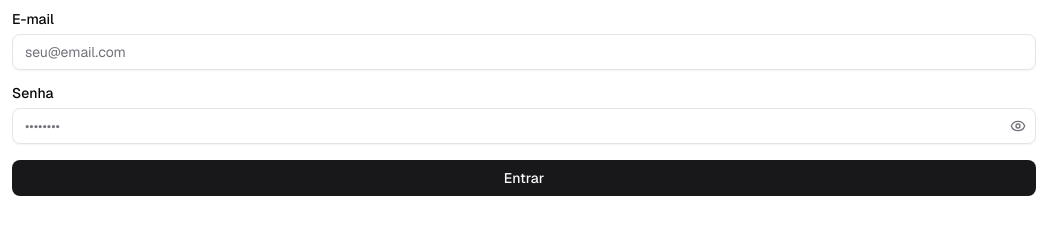
Test: LoginForm › Validação de Formulário › should show error for password less than 8 characters
Type "test@example.com" into the field labelled "E-mail".
click(524, 52); type("test@example.com")  # box [12,34,1036,70]
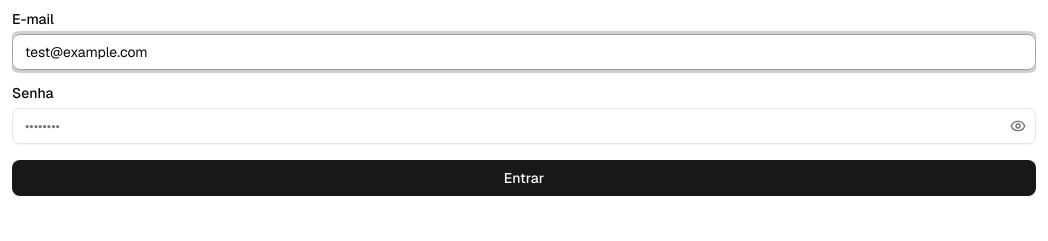
Type "1234567" into the password field labelled "Senha".
click(524, 126); type("1234567")  # box [12,108,1036,144]
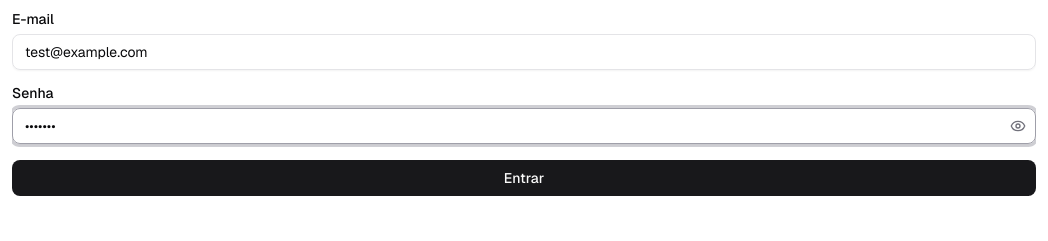
Click the button "Entrar".
click(524, 178)  # box [12,160,1036,196]
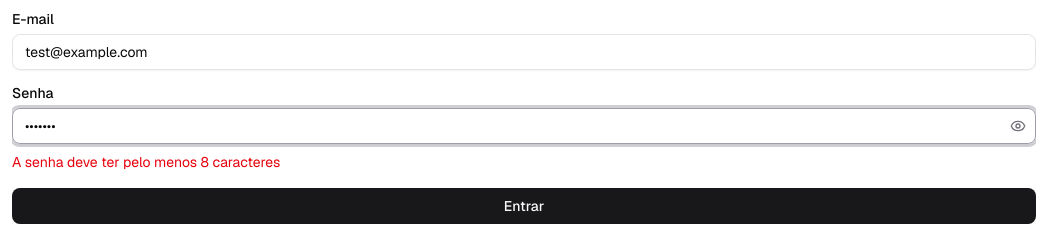
Now the text "A senha deve ter pelo menos 8 caracteres" is shown, box [12,153,280,171]
